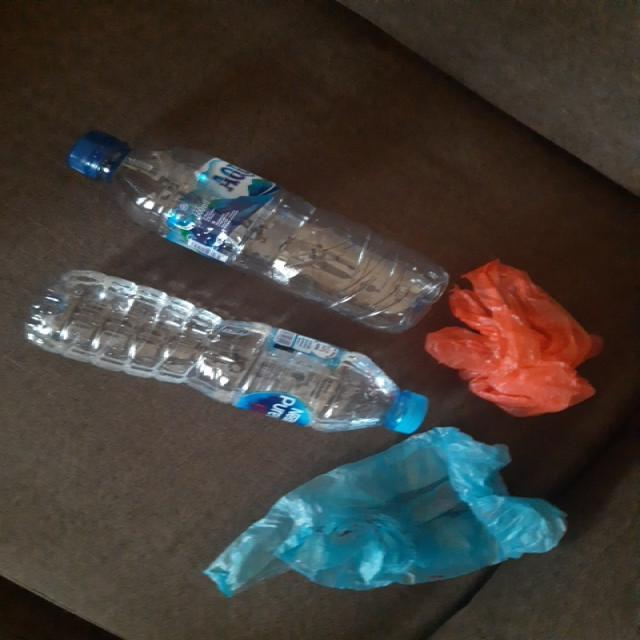Single-layer Plastic: (205, 428, 565, 596)
